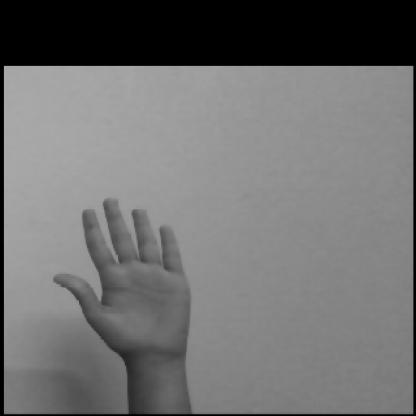palm: (43, 194, 256, 387)
